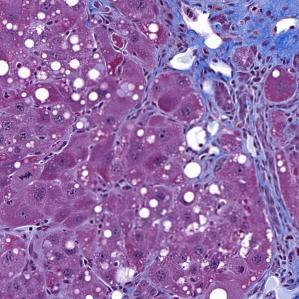fibrosis: (153, 3, 299, 74), (194, 94, 282, 177), (263, 208, 299, 265)
